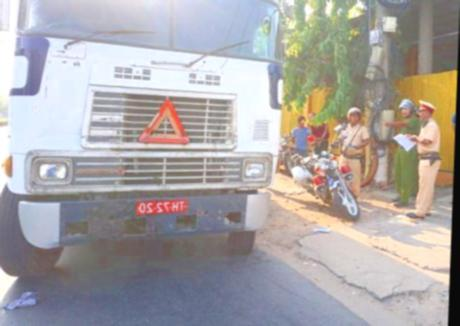License_Plate: (134, 196, 190, 217)
